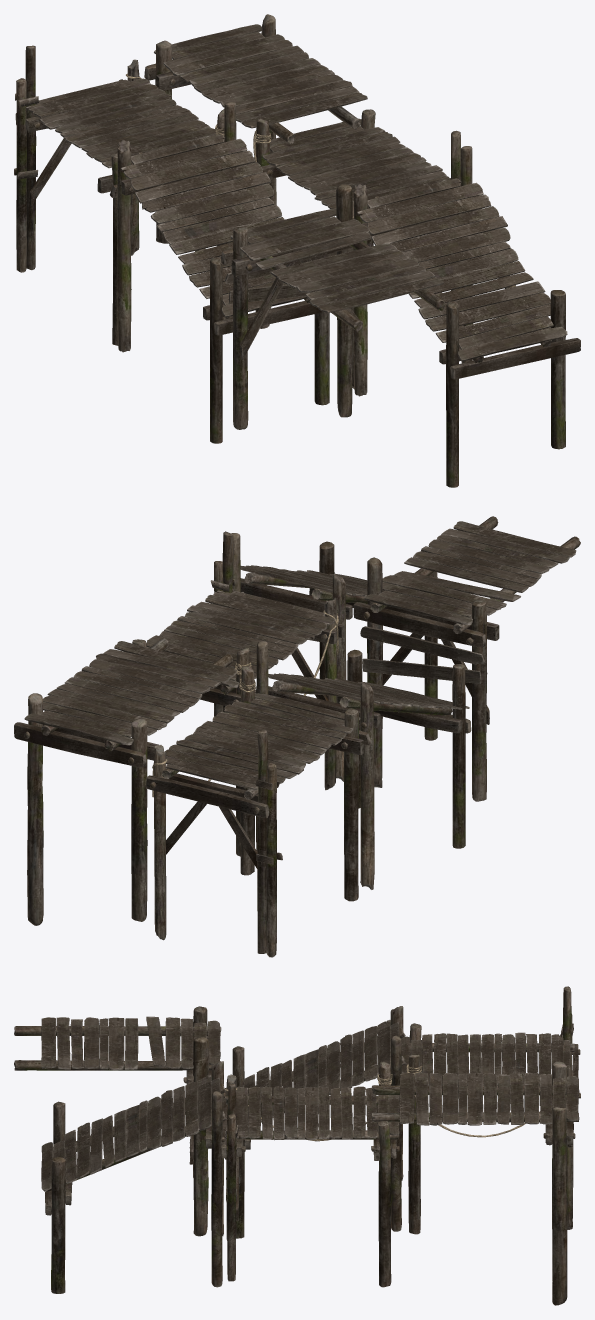
Rendered from bridge.glb.
The picture shows the model from 3 angles, top to bottom: view 1: azimuth 30°, elevation 25°; view 2: azimuth 150°, elevation 25°; view 3: azimuth 270°, elevation 25°; orthographic projection. The views are drawn at different scales.
Parts seen in each view (by area): view 1: modular_wooden_pier_section_04.002, modular_wooden_pier_section_04.001, modular_wooden_pier_section_03.001, modular_wooden_pier_section_01.001, modular_wooden_pier_section_02.001, modular_wooden_pier_section_01.002; view 2: modular_wooden_pier_section_01.001, modular_wooden_pier_section_03.001, modular_wooden_pier_section_02.001, modular_wooden_pier_section_01.002, modular_wooden_pier_section_04.001, modular_wooden_pier_section_04.002; view 3: modular_wooden_pier_section_04.002, modular_wooden_pier_section_01.002, modular_wooden_pier_section_02.001, modular_wooden_pier_section_03.001, modular_wooden_pier_section_01.001, modular_wooden_pier_section_04.001.
Part boxes in pixels (left/top/right/bottom): modular_wooden_pier_section_04.002: left=353, top=146, right=580, bottom=487; modular_wooden_pier_section_04.001: left=117, top=102, right=329, bottom=443; modular_wooden_pier_section_03.001: left=221, top=184, right=444, bottom=429; modular_wooden_pier_section_01.001: left=14, top=45, right=225, bottom=345; modular_wooden_pier_section_02.001: left=144, top=14, right=367, bottom=243; modular_wooden_pier_section_01.002: left=246, top=109, right=460, bottom=388; modular_wooden_pier_section_01.001: left=146, top=666, right=371, bottom=957; modular_wooden_pier_section_03.001: left=353, top=516, right=580, bottom=801; modular_wooden_pier_section_02.001: left=14, top=638, right=236, bottom=925; modular_wooden_pier_section_01.002: left=132, top=531, right=344, bottom=856; modular_wooden_pier_section_04.001: left=256, top=641, right=471, bottom=889; modular_wooden_pier_section_04.002: left=231, top=533, right=437, bottom=781; modular_wooden_pier_section_04.002: left=41, top=1061, right=227, bottom=1293; modular_wooden_pier_section_01.002: left=221, top=1061, right=399, bottom=1287; modular_wooden_pier_section_02.001: left=371, top=1061, right=579, bottom=1305; modular_wooden_pier_section_03.001: left=14, top=1006, right=221, bottom=1236; modular_wooden_pier_section_01.001: left=401, top=986, right=580, bottom=1234; modular_wooden_pier_section_04.001: left=224, top=1006, right=406, bottom=1238.
Bounding box in the file's own units: 4.2 × 3.87 × 9.07.
2 materials, 2 textured.
